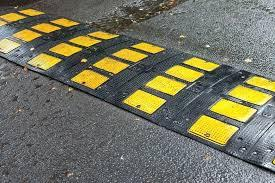Bump: (1, 4, 274, 175)
